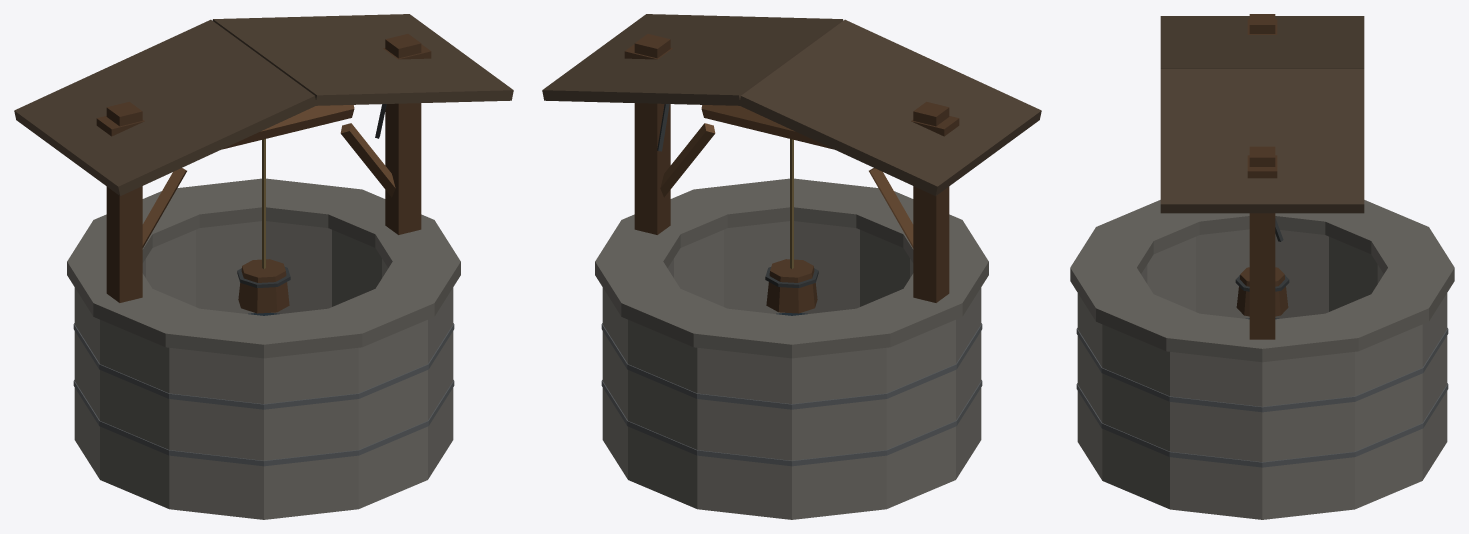
File: prop_well.glb
3 views of the same model, side by side, from view 1: azimuth 30°, elevation 25°; view 2: azimuth 150°, elevation 25°; view 3: azimuth 270°, elevation 25° (orthographic). The views are drawn at different scales.
Parts seen in each view (by area): view 1: Well; view 2: Well; view 3: Well.
Part boxes in pixels (left/top/right/bottom): Well: left=14, top=14, right=513, bottom=519; Well: left=542, top=14, right=1041, bottom=519; Well: left=1070, top=14, right=1454, bottom=519.
Bounding box in the file's own units: 2.41 × 2.23 × 2.08.
